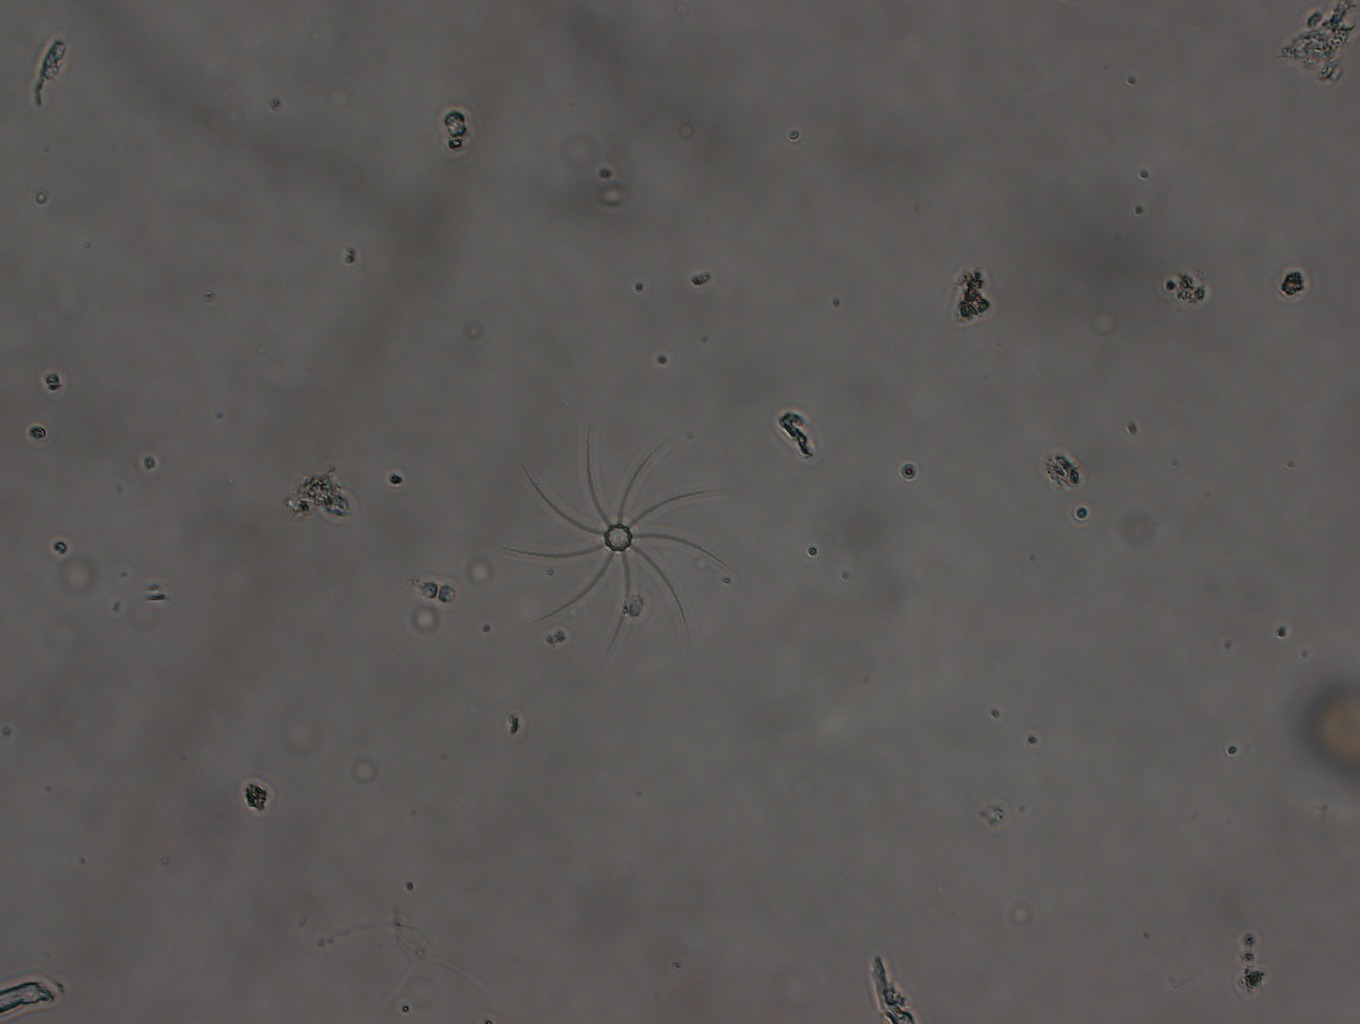bacteriastrum: (493, 423, 739, 652)
